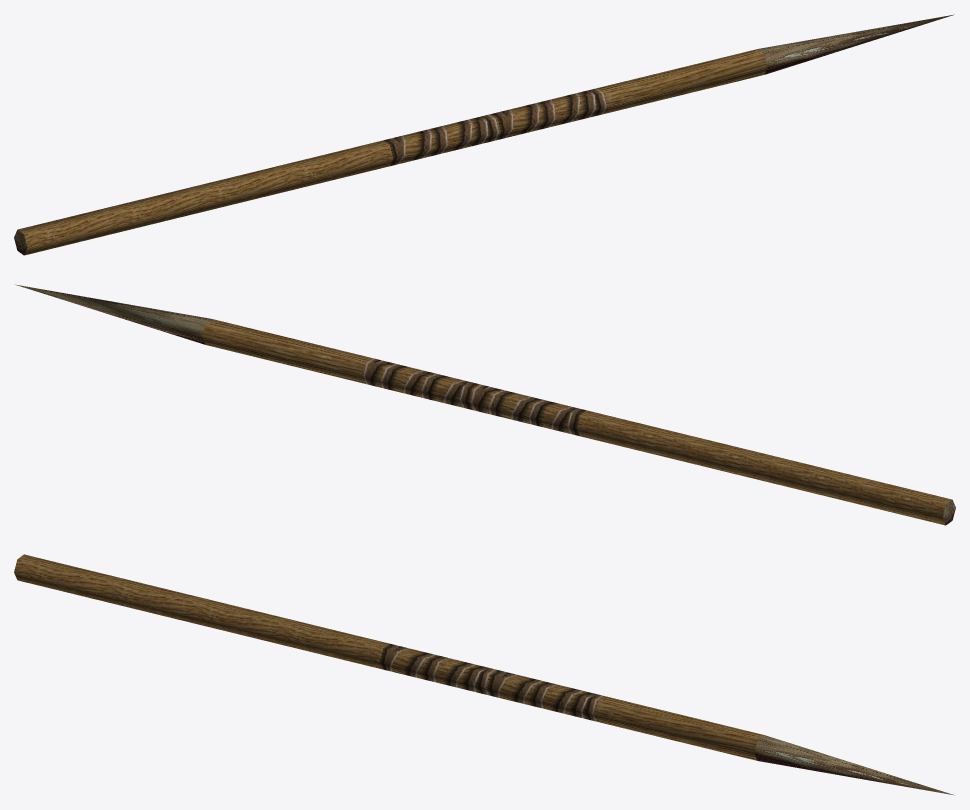
The picture shows the model from 3 angles, top to bottom: view 1: azimuth 30°, elevation 25°; view 2: azimuth 150°, elevation 25°; view 3: azimuth 330°, elevation 25°; orthographic projection.
Visible parts, largest first — view 1: it10103; view 2: it10103; view 3: it10103.
Part boxes in pixels (x1,y1,x2,y2): it10103: (14,14,954,255); it10103: (15,284,955,525); it10103: (14,554,954,795).
Size of the model in its own units: 4.02 by 0.0864 by 0.1001.
3 materials, 3 textured.
